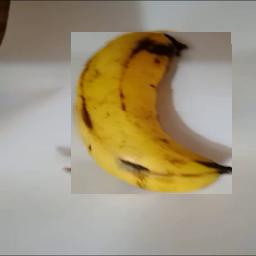Banana Semifresh: (72, 32, 233, 194)
